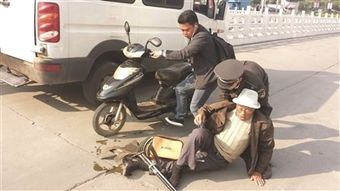falling: (87, 83, 282, 188)
